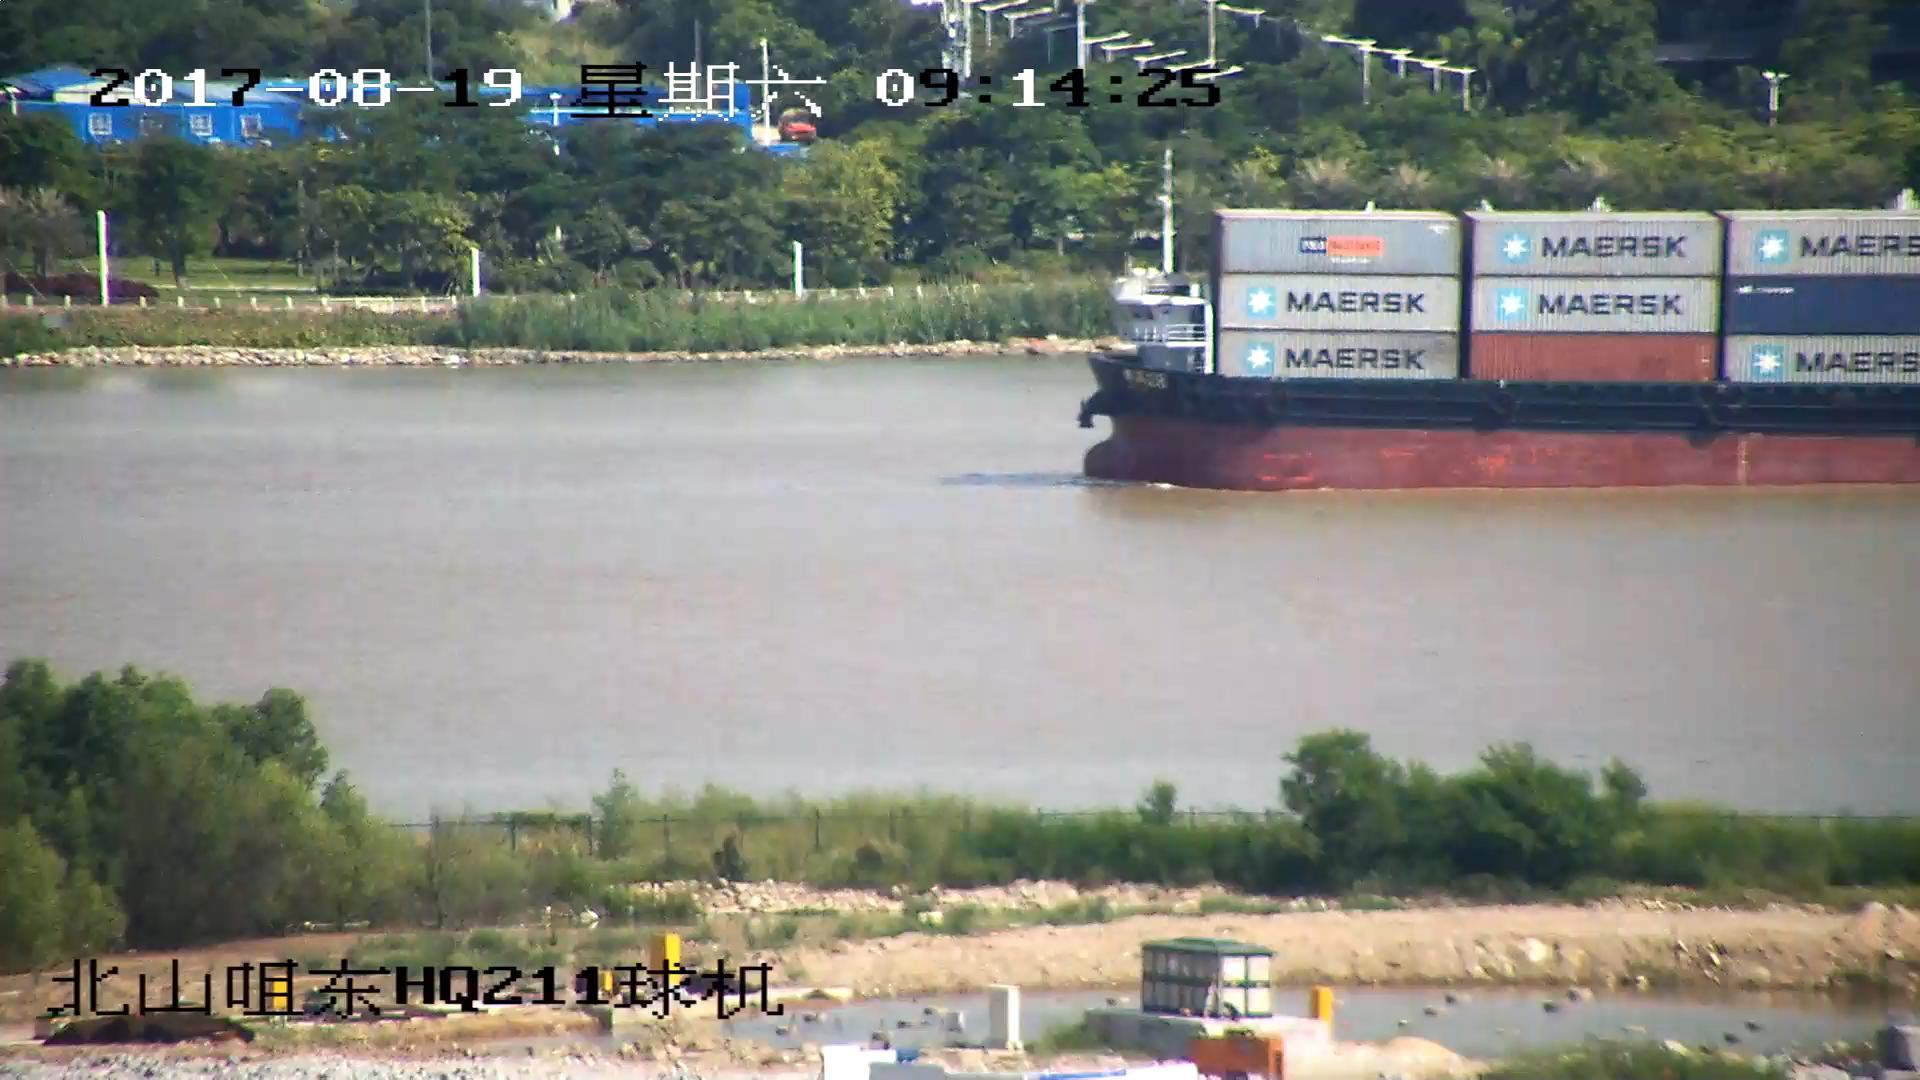Ship: (1068, 193, 1920, 491)
